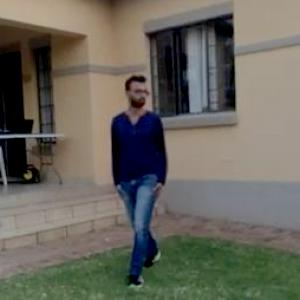follow: (104, 66, 171, 291)
